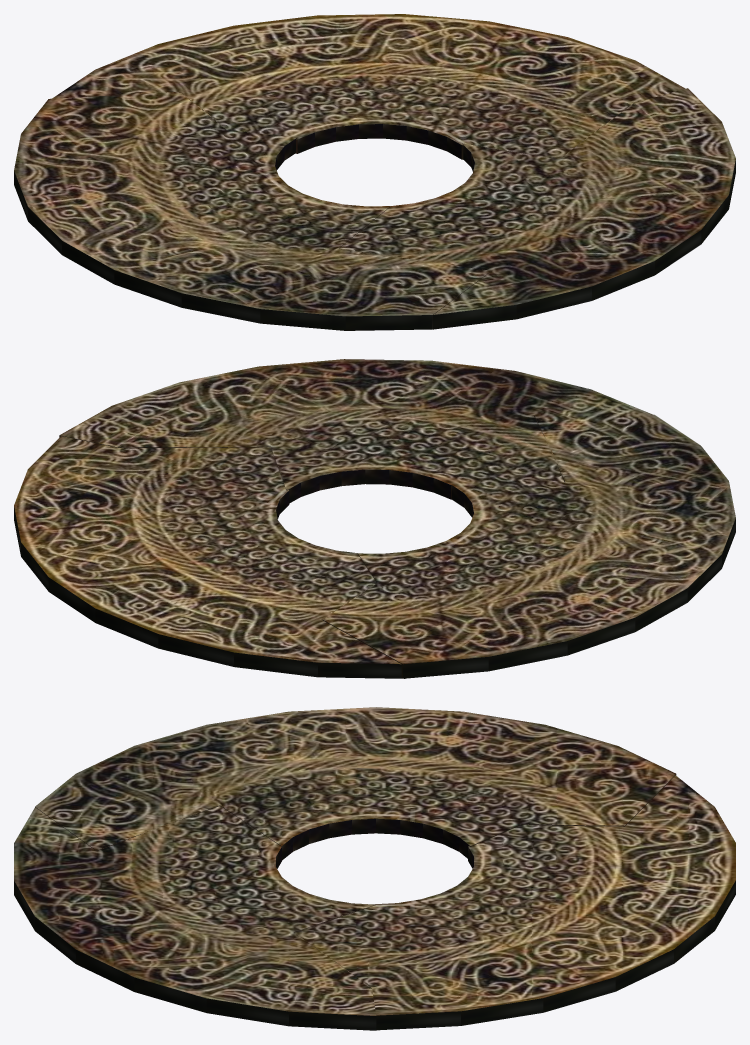
The picture shows the model from 3 angles, top to bottom: view 1: azimuth 30°, elevation 25°; view 2: azimuth 150°, elevation 25°; view 3: azimuth 270°, elevation 25°; orthographic projection.
Parts seen in each view (by area): view 1: 对象001; view 2: 对象001; view 3: 对象001.
Part boxes in pixels (left/top/right/bottom): 对象001: left=14, top=14, right=735, bottom=330; 对象001: left=14, top=359, right=735, bottom=678; 对象001: left=14, top=707, right=735, bottom=1030.
Size of the model in its own units: 59.37 by 1.38 by 58.68.
